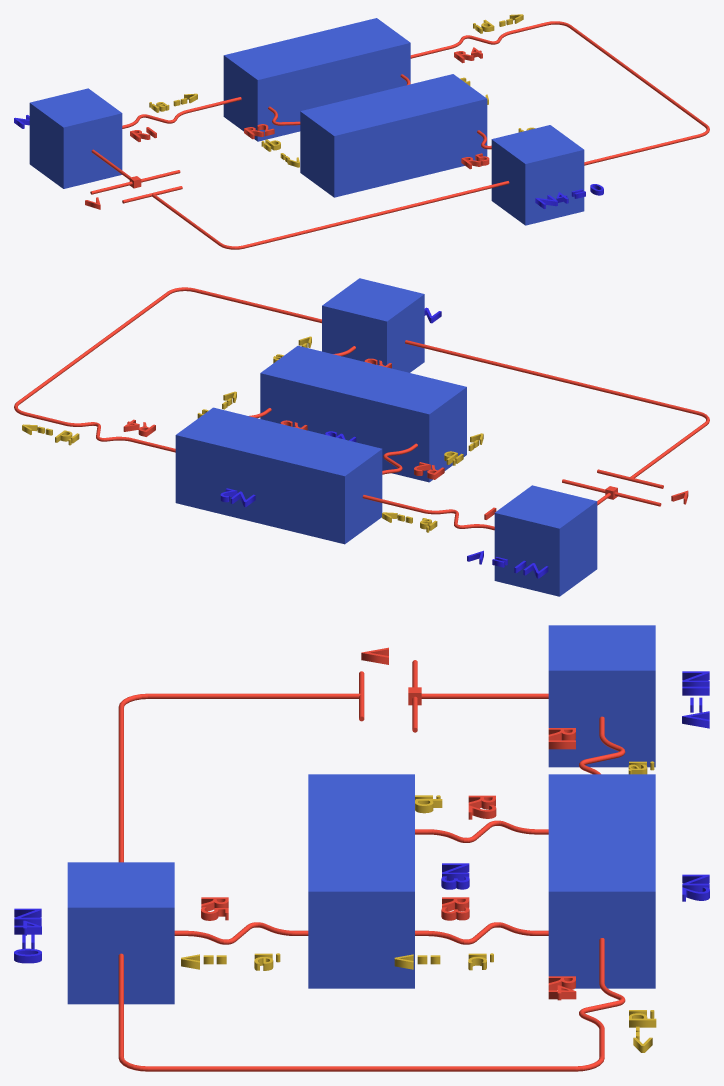
File: Diagrama 1 rojo v2.glb
3 views of the same model, one above another, from view 1: azimuth 30°, elevation 25°; view 2: azimuth 150°, elevation 25°; view 3: azimuth 270°, elevation 25° (orthographic). The views are drawn at different scales.
Visible parts, largest first — view 1: Cube.005, Cube.004, Cube.003, Cube.006, Linea, Fuente, Text.017, Text.006; view 2: Cube.004, Cube.005, Cube.003, Cube.006, Linea, Fuente, Text.014; view 3: Cube.005, Cube.004, Cube.006, Cube.003, Linea, Linea03, Text.017, Text.014, Linea02, Text.016, Text.015, Text.006.
Part boxes in pixels (<box>): Cube.005: <box>300,74,487,197</box>; Cube.004: <box>223,18,410,141</box>; Cube.003: <box>29,88,122,188</box>; Cube.006: <box>491,125,584,225</box>; Linea: <box>91,21,709,249</box>; Fuente: <box>90,170,182,203</box>; Text.017: <box>535,184,603,208</box>; Text.006: <box>473,14,523,33</box>; Cube.004: <box>175,407,382,544</box>; Cube.005: <box>260,345,466,482</box>; Cube.003: <box>494,485,597,596</box>; Cube.006: <box>322,278,424,372</box>; Linea: <box>14,287,709,530</box>; Fuente: <box>562,469,663,506</box>; Text.014: <box>467,550,548,578</box>; Cube.005: <box>308,774,414,988</box>; Cube.004: <box>548,774,655,988</box>; Cube.006: <box>67,862,174,1004</box>; Cube.003: <box>548,625,655,767</box>; Linea: <box>118,693,625,1071</box>; Linea03: <box>174,922,548,944</box>; Text.017: <box>14,908,41,963</box>; Text.014: <box>682,671,709,728</box>; Linea02: <box>415,820,548,842</box>; Text.016: <box>441,863,469,889</box>; Text.015: <box>682,874,709,901</box>; Text.006: <box>629,1010,656,1052</box>.
Size of the model in its own units: 3.71 by 0.4 by 2.61.
